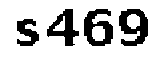4: (44, 7, 80, 49)
6: (81, 8, 114, 49)
9: (116, 7, 151, 50)
s: (14, 15, 42, 48)
